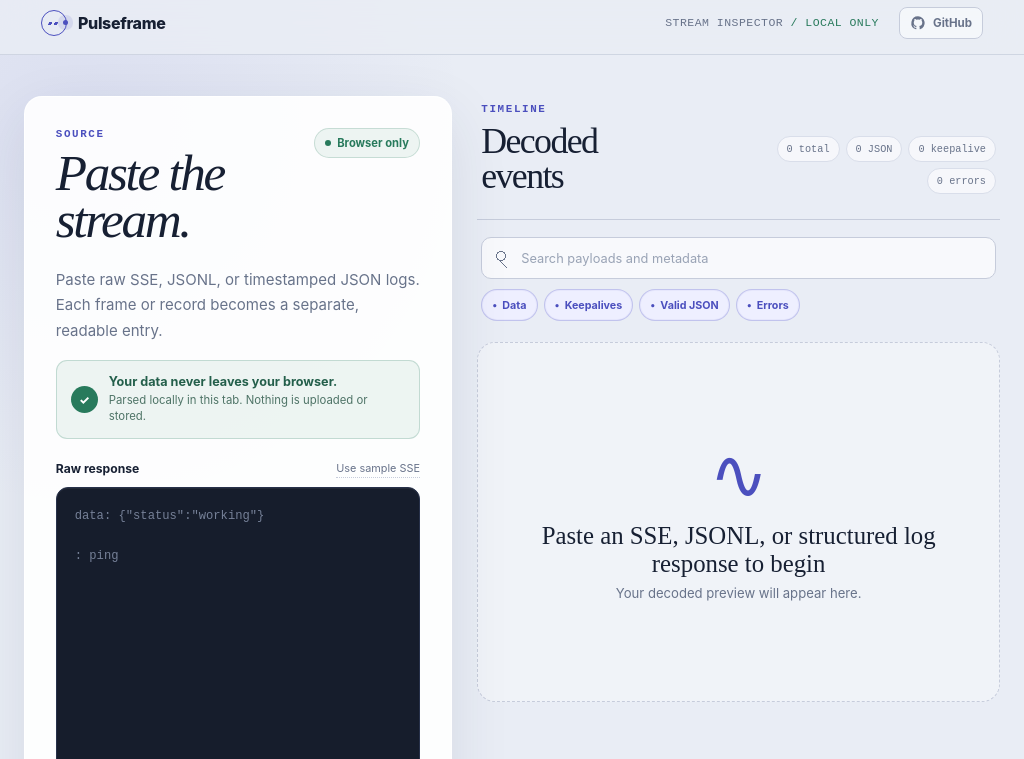
Scenario: App › clears input and results
Click the button "Use sample SSE" at coordinates (378, 468), box [336, 458, 420, 478]
(page scrolled)
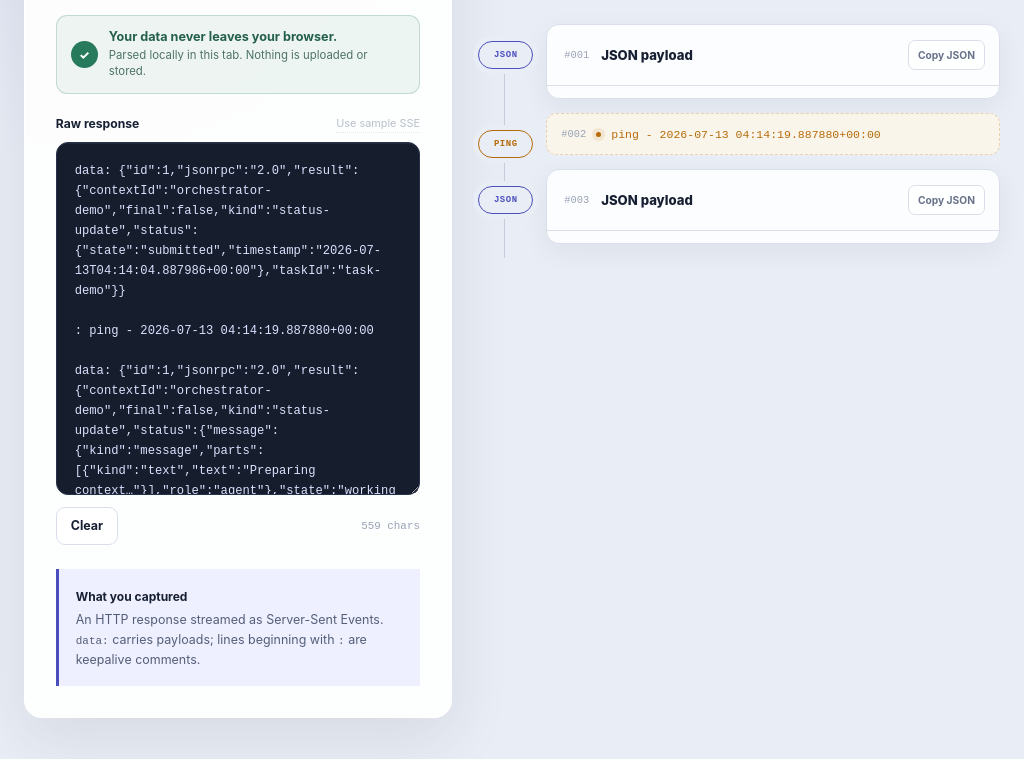
Click the button "Clear" at coordinates (87, 526), box [56, 507, 118, 545]
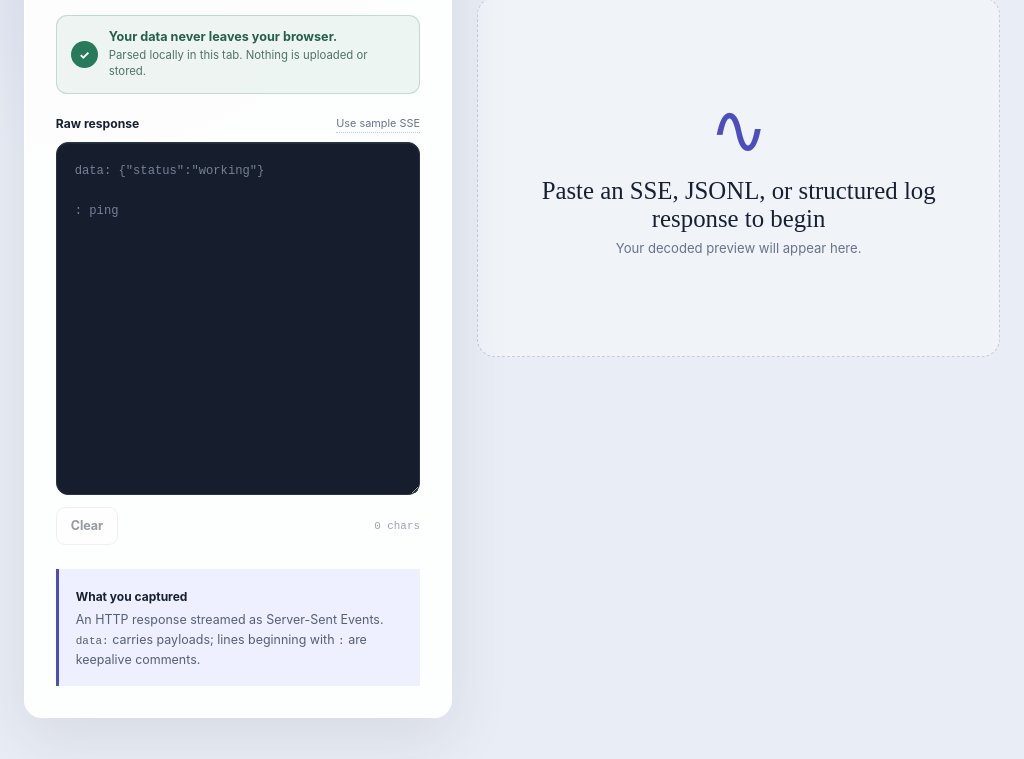
Check: the text box labelled "Raw response" is empty, box [56, 142, 420, 495]
Check: the heading "Paste an SSE, JSONL, or structured log response to begin" is shown, box [526, 177, 951, 233]
